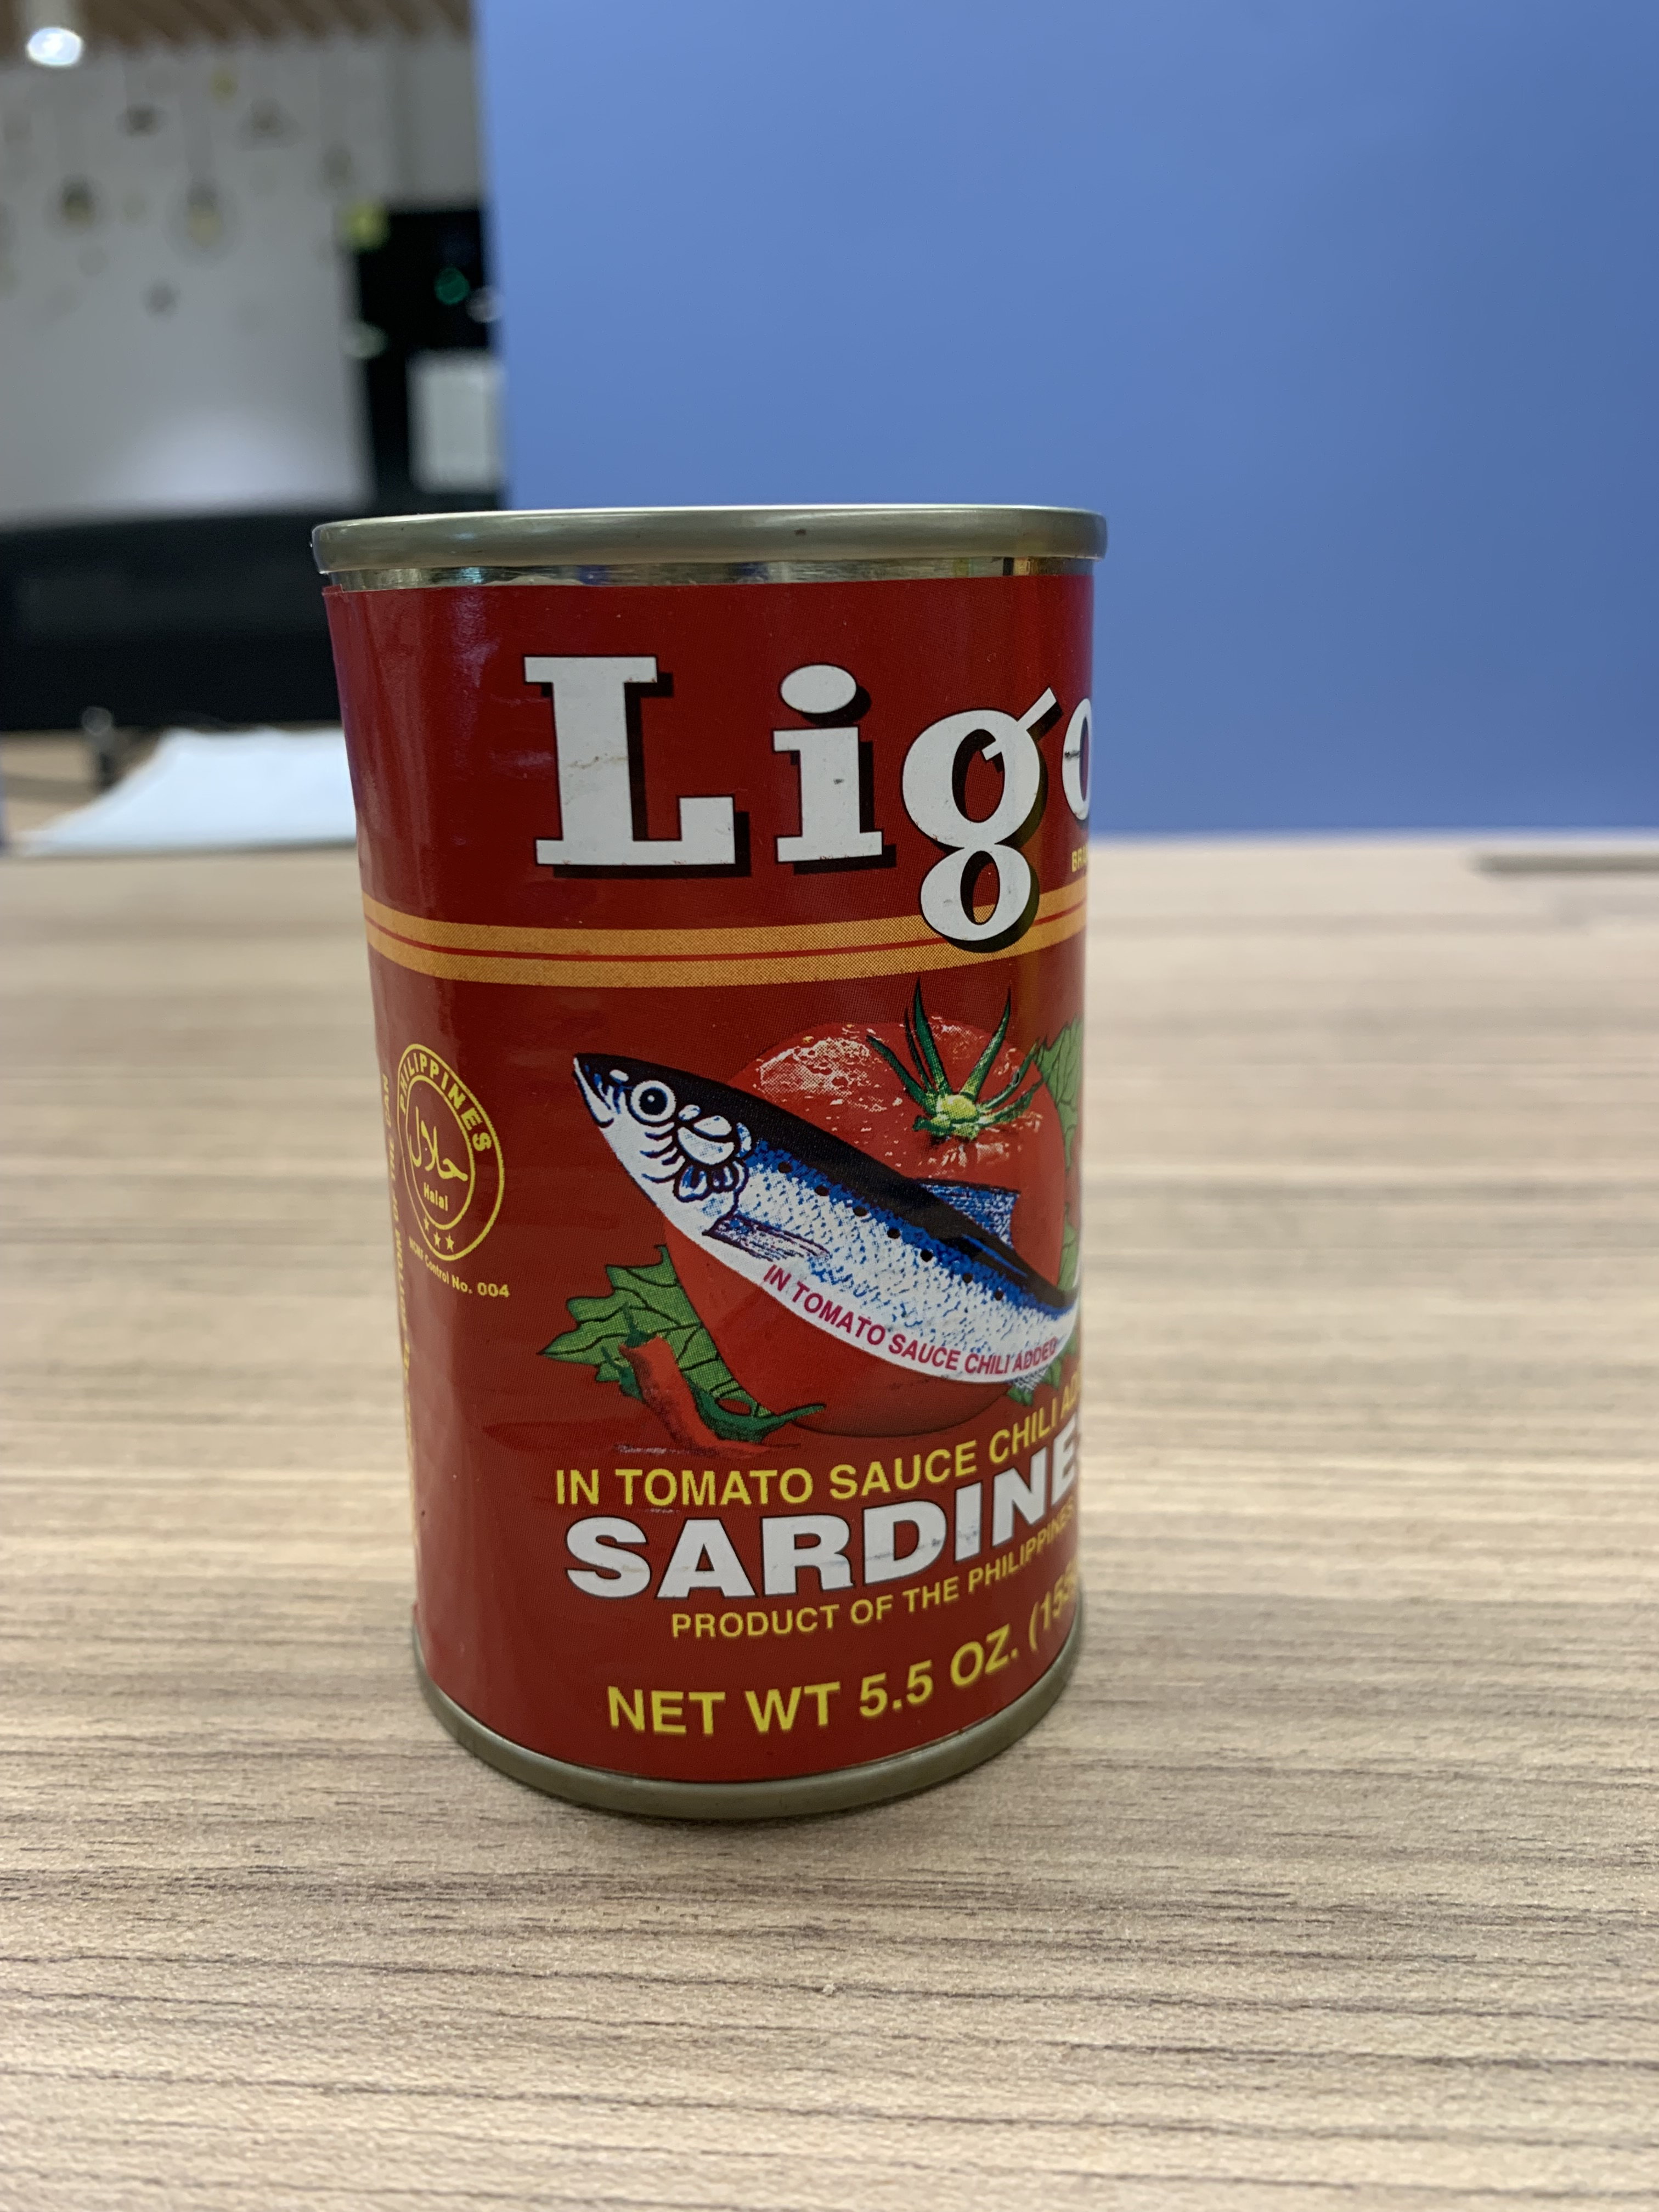sardines: (307, 479, 1126, 1831)
